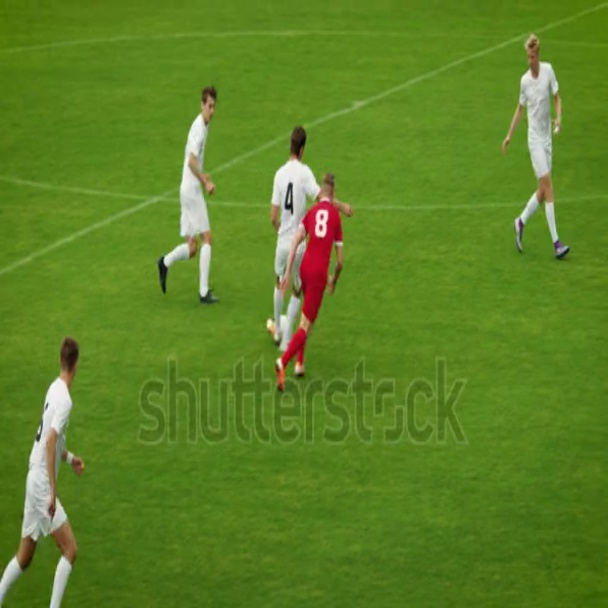ball: (275, 311, 290, 345)
